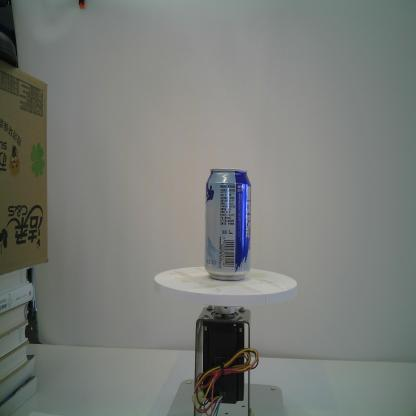Alcohol: (204, 167, 252, 283)
